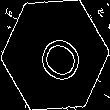O_NW: (26, 24, 84, 86)
